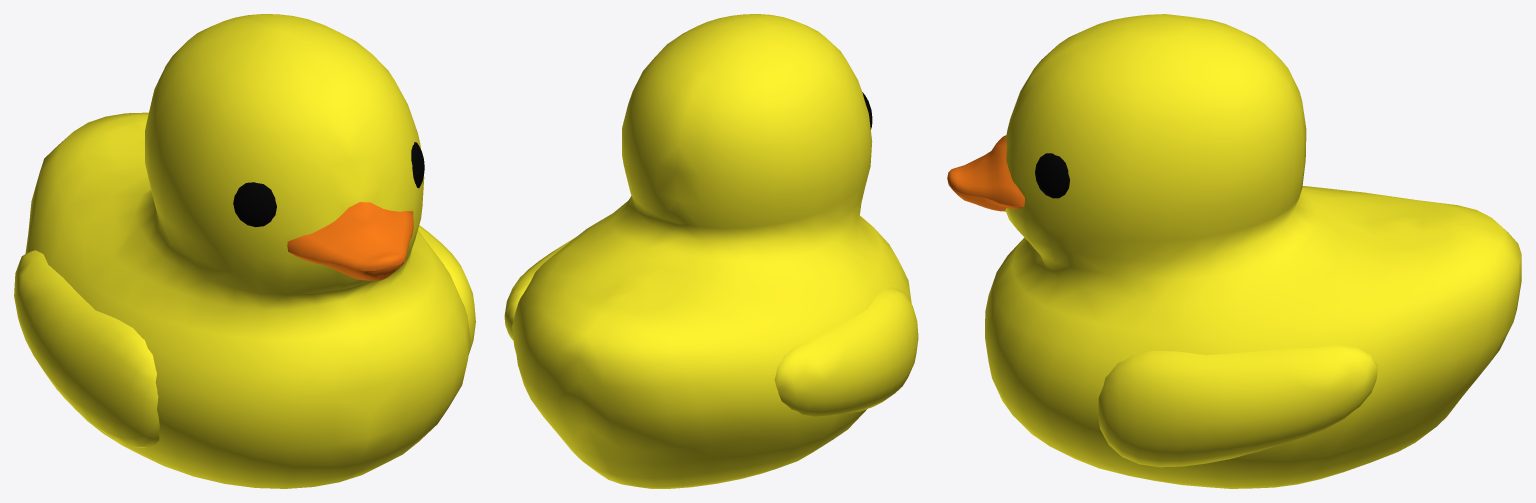
File: FBX_RubberDuck.fbx
3 renders of one model, left to right at view 1: azimuth 30°, elevation 25°; view 2: azimuth 150°, elevation 25°; view 3: azimuth 270°, elevation 25°, orthographic. The views are drawn at different scales.
Parts seen in each view (by area): view 1: defaultMaterial; view 2: defaultMaterial; view 3: defaultMaterial.
Part boxes in pixels (x1,y1,x2,y2): defaultMaterial: (14, 14, 475, 488); defaultMaterial: (504, 14, 918, 488); defaultMaterial: (947, 14, 1521, 488).
Size of the model in its own units: 9.82 by 10.72 by 12.77.
1 material, 1 textured.
